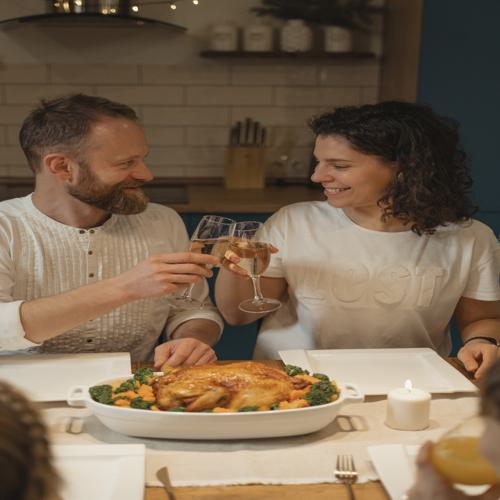copa: (165, 209, 234, 315), (234, 216, 283, 320)
